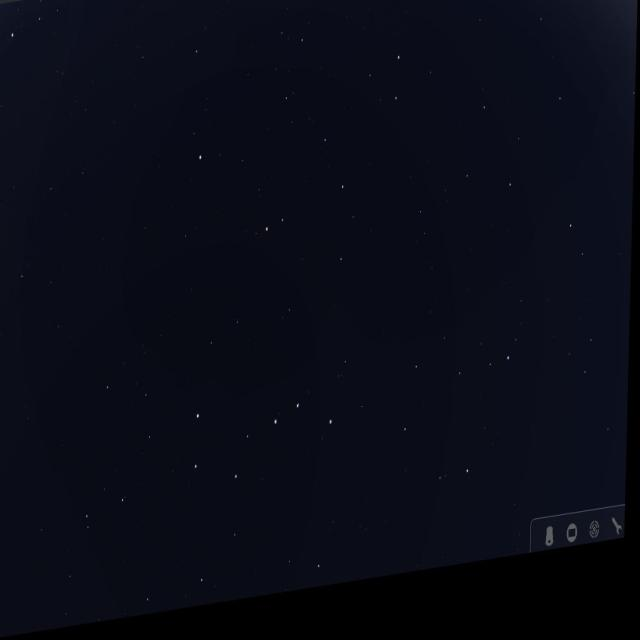ursa_major: (193, 371, 341, 517)
